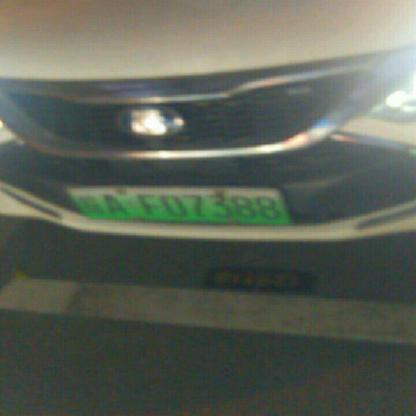lp: (66, 187, 293, 224)
